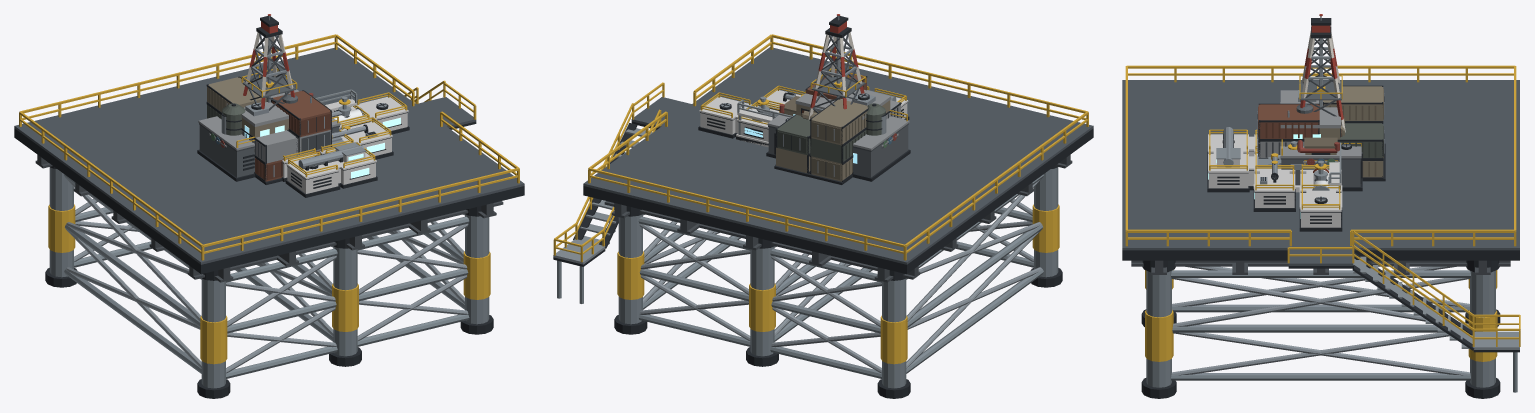
Rendered from platform_kit.glb.
3 renders of one model, left to right at view 1: azimuth 30°, elevation 25°; view 2: azimuth 150°, elevation 25°; view 3: azimuth 270°, elevation 25°, orthographic. The views are drawn at different scales.
Visible parts, largest first — view 1: platform_base, bld_2x3_a, piece_L, bld_2x2_d, bld_3x2_a, bld_2x2_a, piece_Z, piece_I4, piece_J, piece_T, bld_3x1_b, piece_O; view 2: platform_base, bld_2x3_a, bld_3x2_a, bld_2x2_d, piece_I4, bld_2x2_a, piece_T, piece_I3, bld_3x1_b, piece_Z; view 3: platform_base, bld_2x3_a, bld_2x2_d, piece_L, bld_3x2_a, piece_Z, piece_I4, bld_2x2_a, piece_T, piece_J, bld_3x1_b, piece_I3 (+1 smaller).
Part boxes in pixels (x1,y1,x2,y2): platform_base: [14, 34, 524, 398]; bld_2x3_a: [206, 76, 332, 184]; piece_L: [285, 142, 377, 197]; bld_2x2_d: [241, 14, 297, 173]; bld_3x2_a: [197, 93, 340, 181]; bld_2x2_a: [226, 89, 311, 151]; piece_Z: [332, 117, 393, 159]; piece_I4: [356, 92, 409, 134]; piece_J: [289, 132, 364, 170]; piece_T: [315, 89, 364, 140]; bld_3x1_b: [208, 97, 327, 170]; piece_O: [281, 129, 353, 181]; platform_base: [553, 34, 1093, 398]; bld_2x3_a: [774, 68, 901, 184]; bld_3x2_a: [766, 90, 910, 181]; bld_2x2_d: [808, 14, 866, 173]; piece_I4: [698, 92, 751, 138]; bld_2x2_a: [795, 75, 890, 119]; piece_T: [736, 96, 792, 147]; piece_I3: [736, 101, 779, 145]; bld_3x1_b: [784, 96, 899, 166]; piece_Z: [759, 85, 805, 110]; platform_base: [1122, 65, 1520, 398]; bld_2x3_a: [1257, 85, 1385, 181]; bld_2x2_d: [1299, 14, 1345, 132]; piece_L: [1207, 129, 1257, 192]; bld_3x2_a: [1280, 102, 1362, 191]; piece_Z: [1253, 156, 1295, 211]; piece_I4: [1299, 188, 1342, 231]; bld_2x2_a: [1280, 90, 1362, 178]; piece_T: [1253, 141, 1342, 209]; piece_J: [1223, 127, 1337, 190]; bld_3x1_b: [1303, 137, 1338, 164]; piece_I3: [1299, 164, 1341, 209].
Size of the model in its own units: 9.45 by 7.36 by 8.62.
